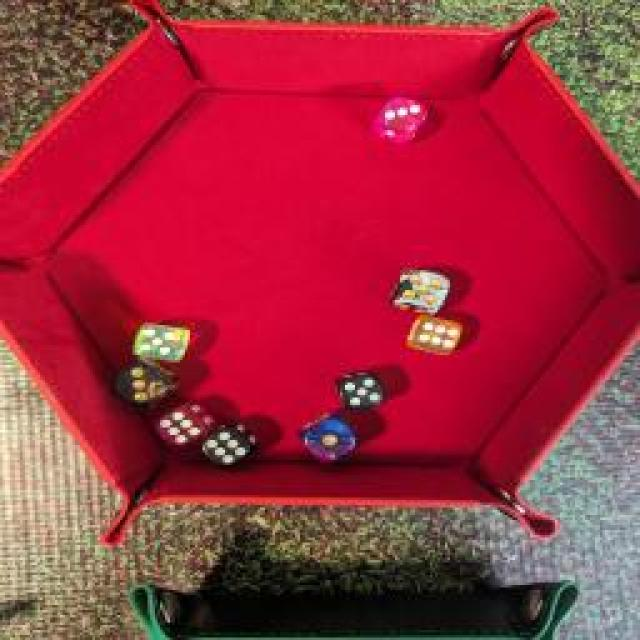dice_1: (294, 412, 368, 468)
dice_3: (106, 356, 176, 409), (365, 94, 433, 146)
dice_5: (388, 265, 450, 317), (126, 318, 189, 364), (332, 366, 390, 412)
dice_6: (198, 418, 258, 470), (154, 398, 214, 450), (405, 312, 467, 360)
